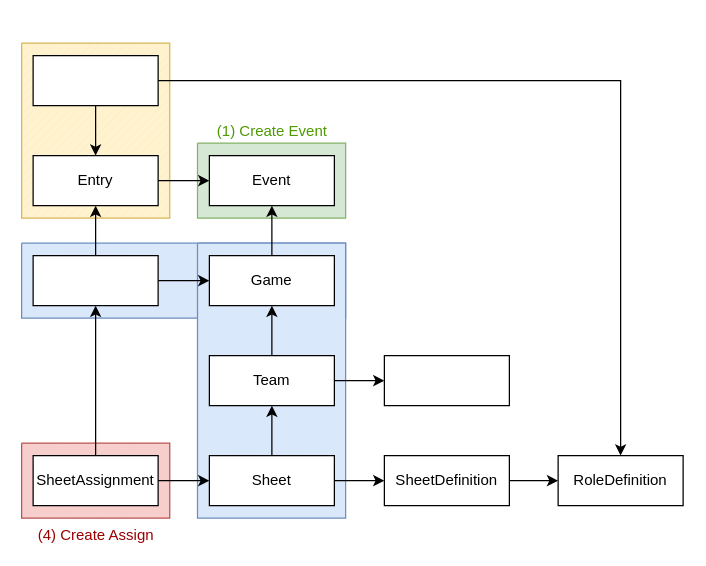
Some shapes in this 706 by 566 pixel diagram are drawn without their labels. Each missing label, with the box of its shape:
(2) Create Entry: (20, 42, 170, 218)
(3) Create Game: (196, 242, 346, 518)
GameEntry: (32, 254, 158, 306)
RoleRequest: (32, 54, 158, 106)
TeamDefinition: (383, 354, 509, 406)
